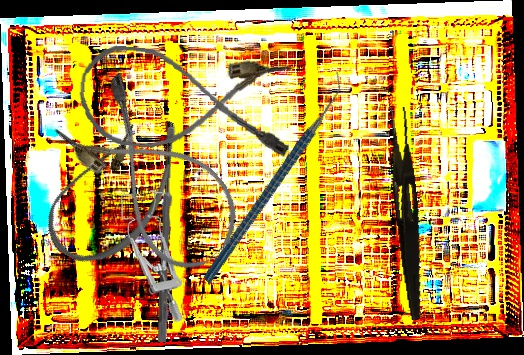Cannula: (50, 68, 256, 284), (33, 90, 197, 283), (73, 42, 298, 162)
Chopper: (150, 69, 395, 285)
Dressing Forceps: (382, 106, 432, 321)
Speculum: (120, 188, 184, 325)
Surgical Spoon: (157, 127, 176, 343)
